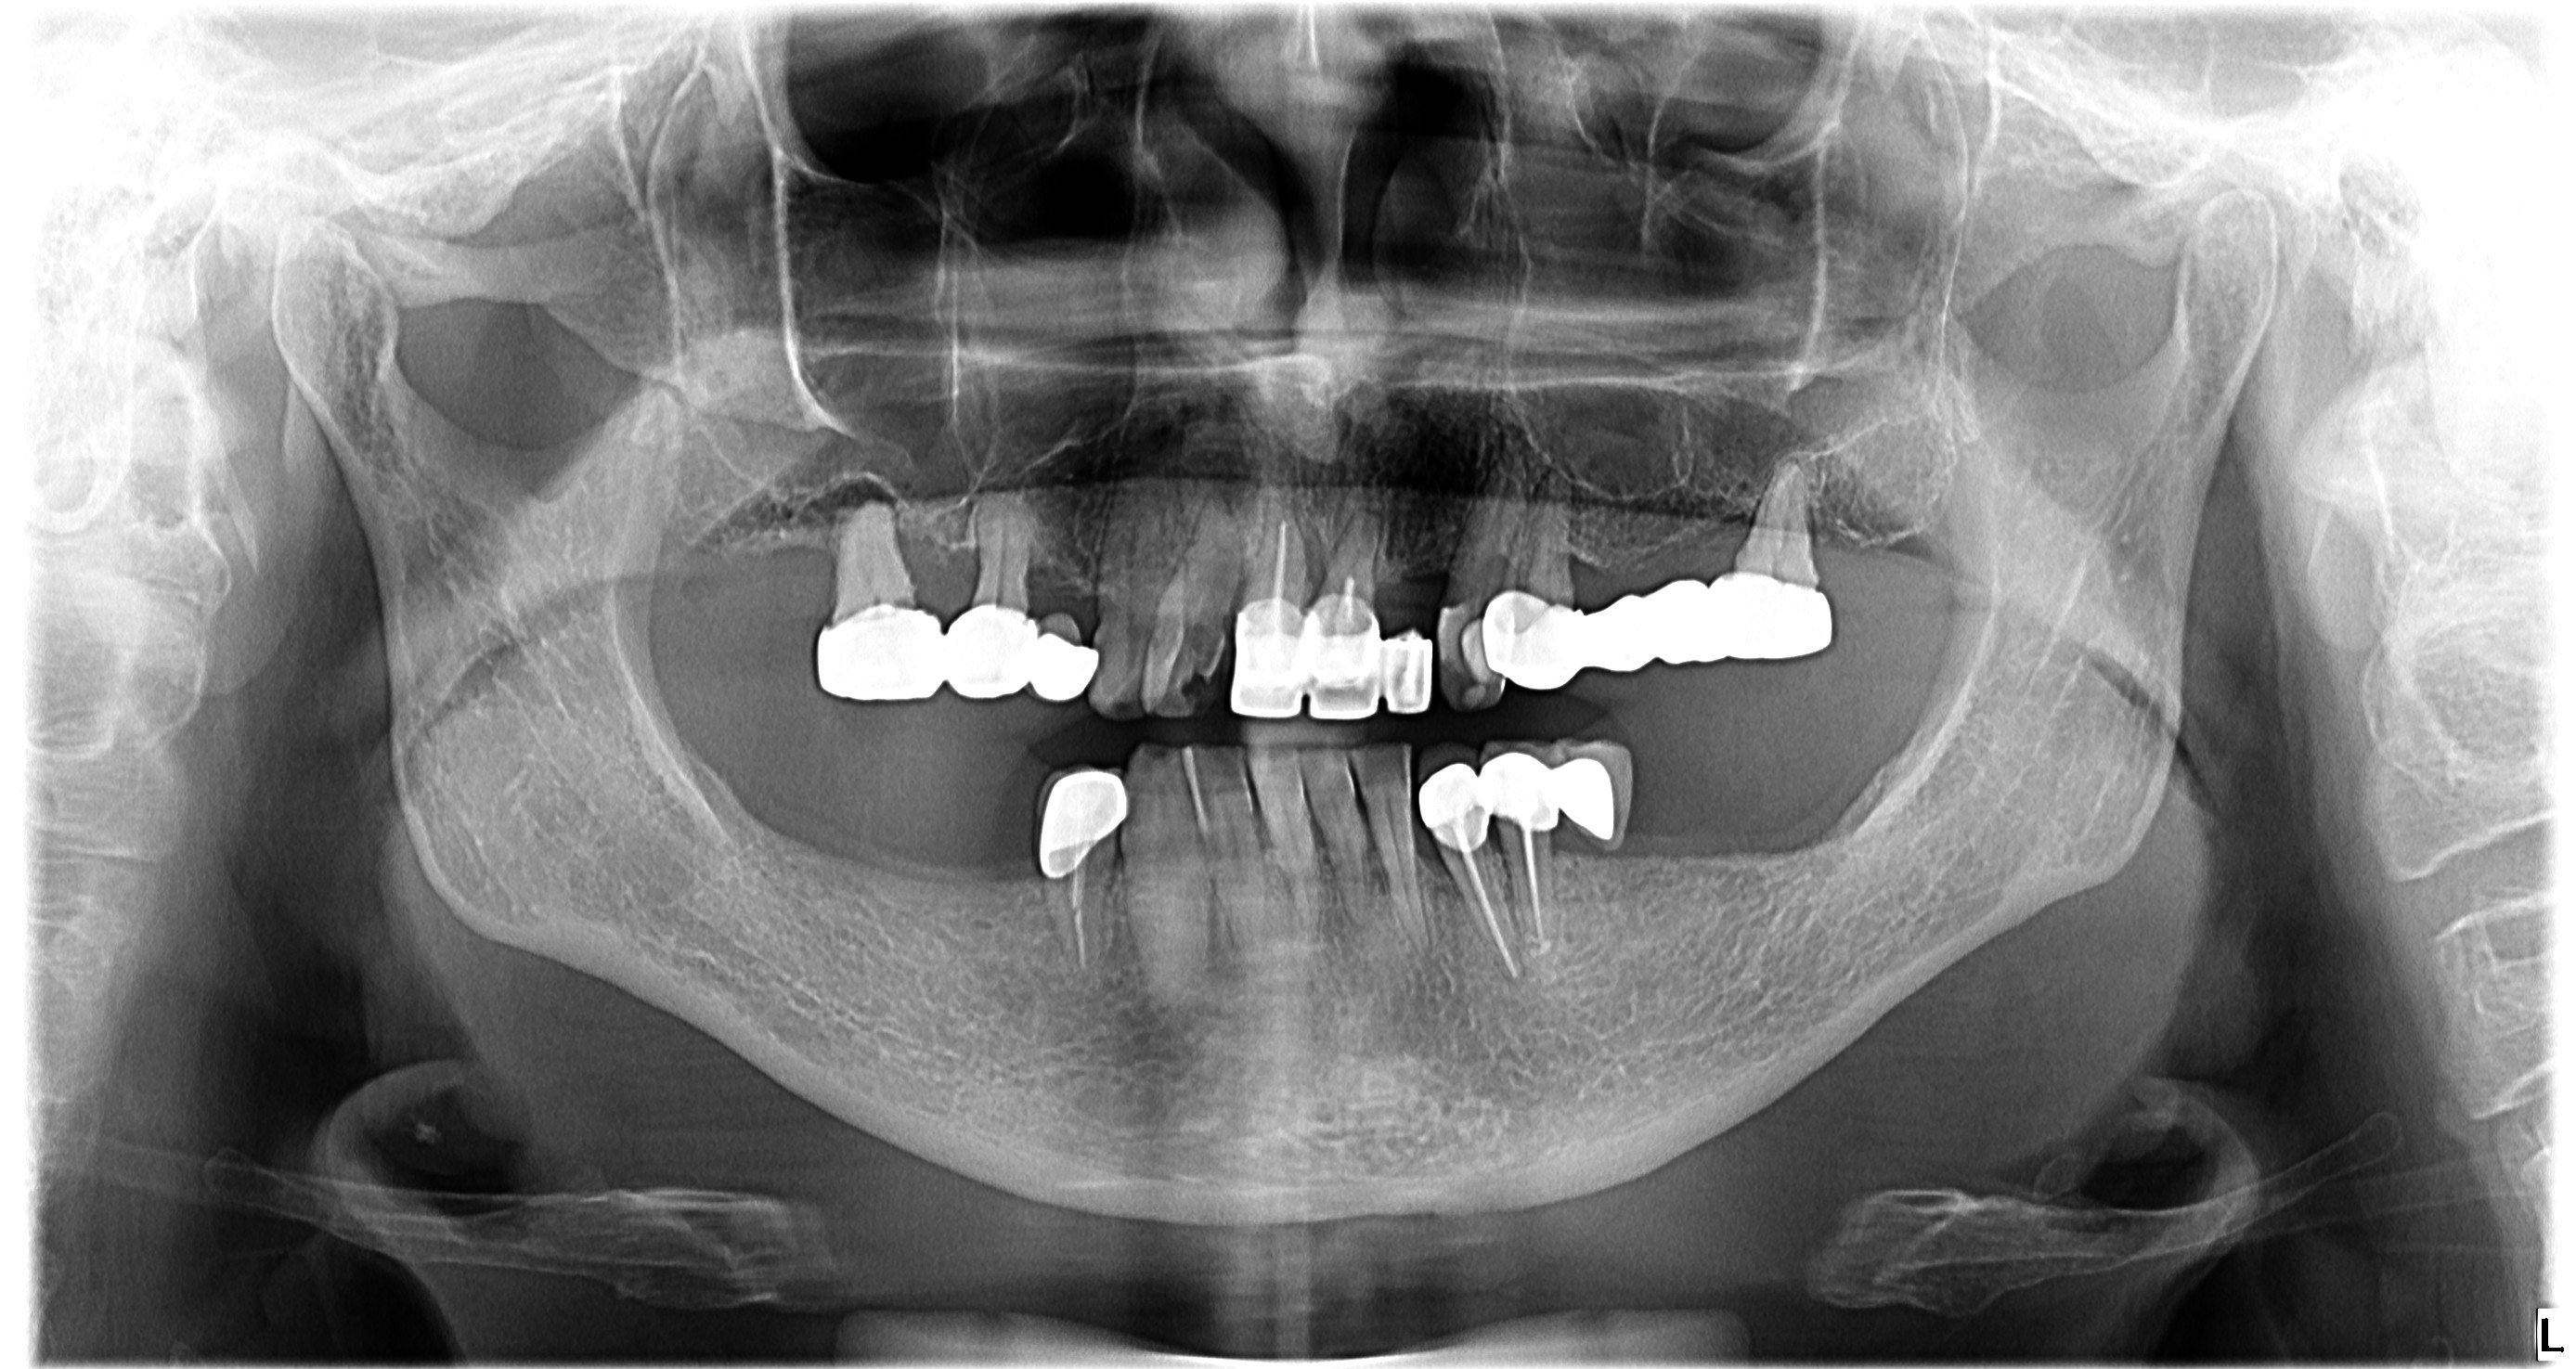API: (804, 477, 911, 536)
BON: (1343, 805, 1392, 891), (876, 514, 935, 576), (1239, 807, 1281, 875), (1288, 811, 1339, 863)
CAR: (1165, 649, 1222, 730), (881, 581, 934, 621), (1714, 553, 1753, 587)
END: (1435, 848, 1532, 981), (1499, 829, 1564, 954), (1039, 872, 1109, 982), (1257, 504, 1307, 613)
OBT: (1433, 596, 1501, 724)
PRR: (1472, 562, 1852, 713), (794, 594, 1124, 725), (1213, 598, 1450, 741), (1402, 734, 1653, 867), (1009, 759, 1145, 882)
